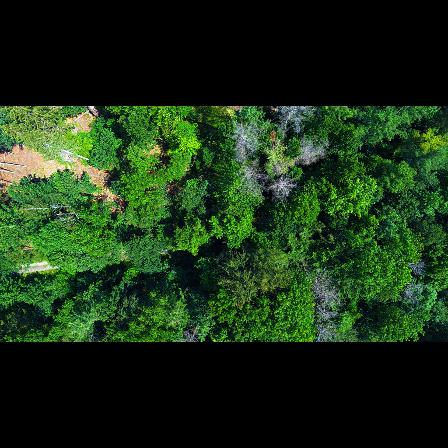Dead: (287, 136, 330, 168), (231, 119, 261, 160), (274, 106, 317, 132), (402, 262, 424, 306), (234, 159, 263, 192), (269, 173, 300, 202), (301, 270, 332, 299), (309, 318, 335, 342)
